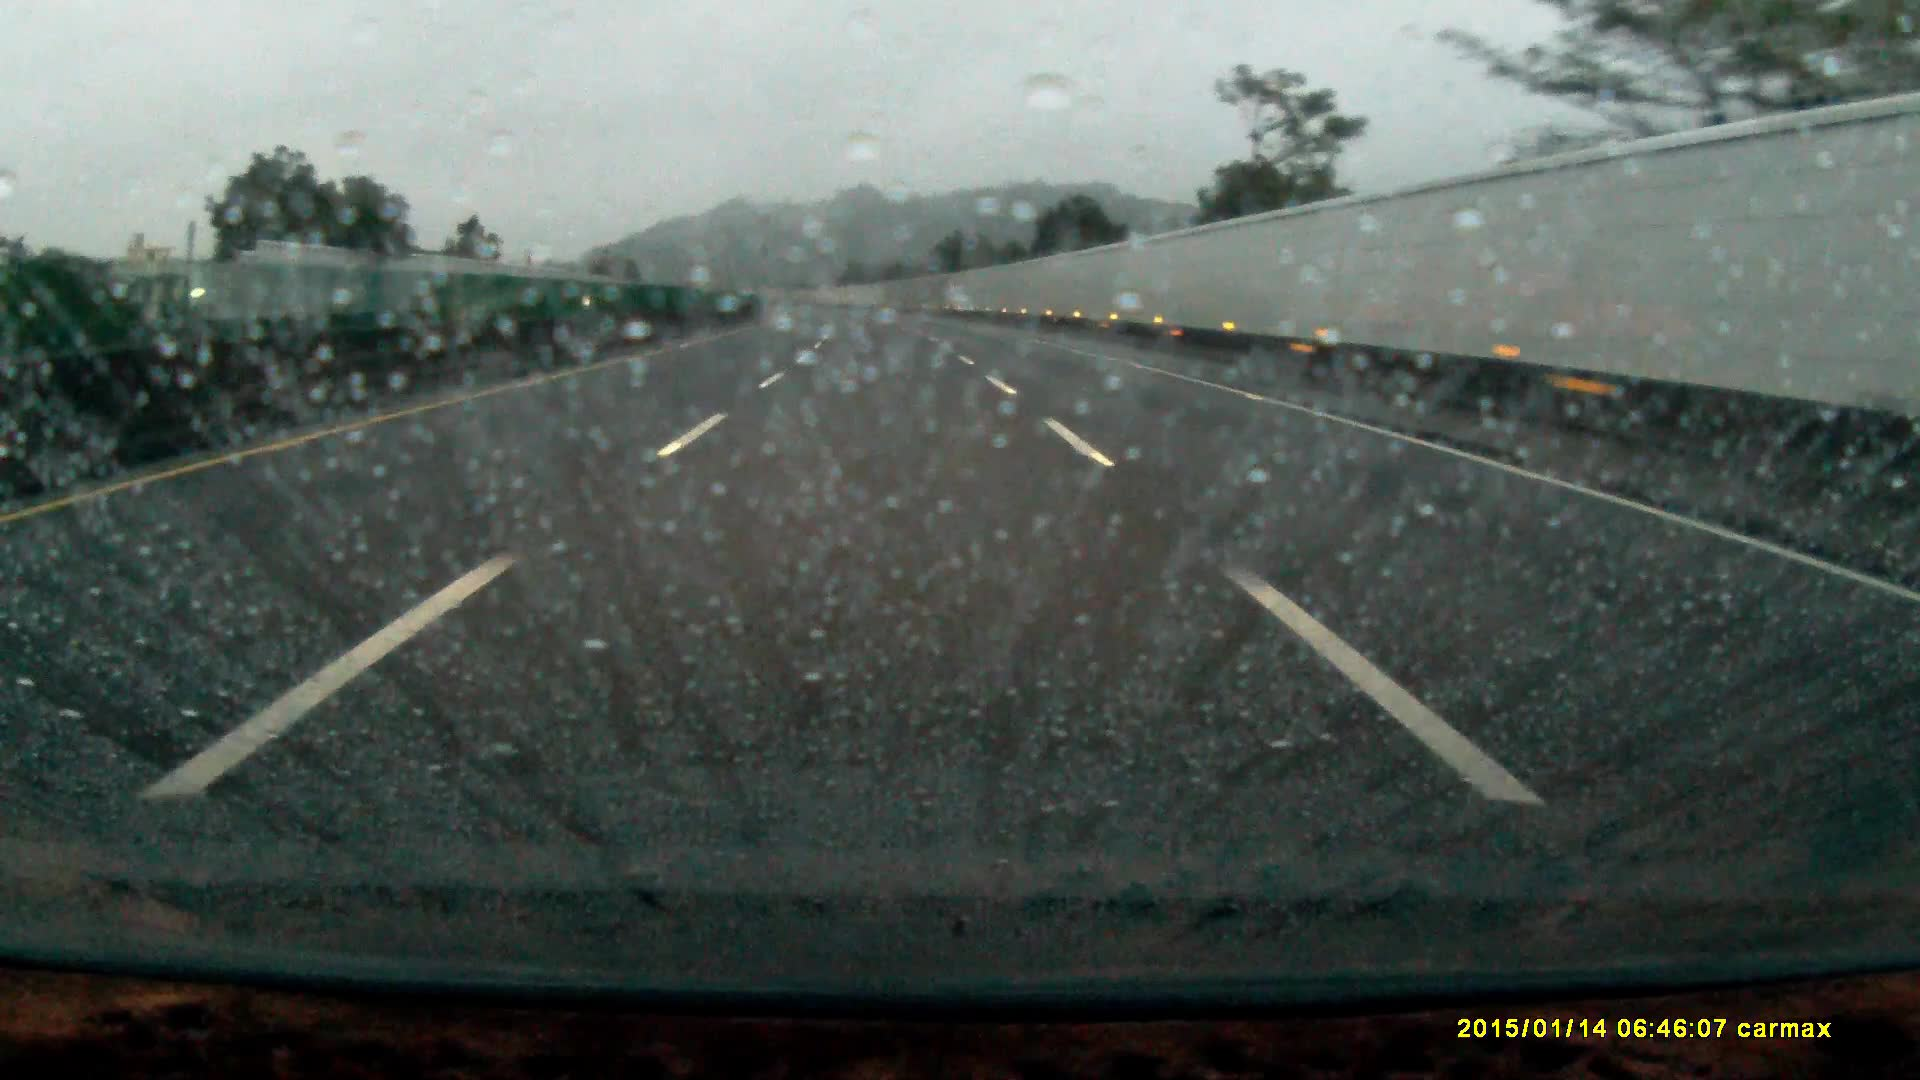vehicle: (439, 291, 509, 328)
